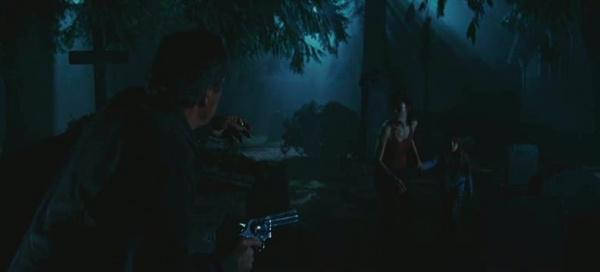Gun: (240, 207, 300, 249)
